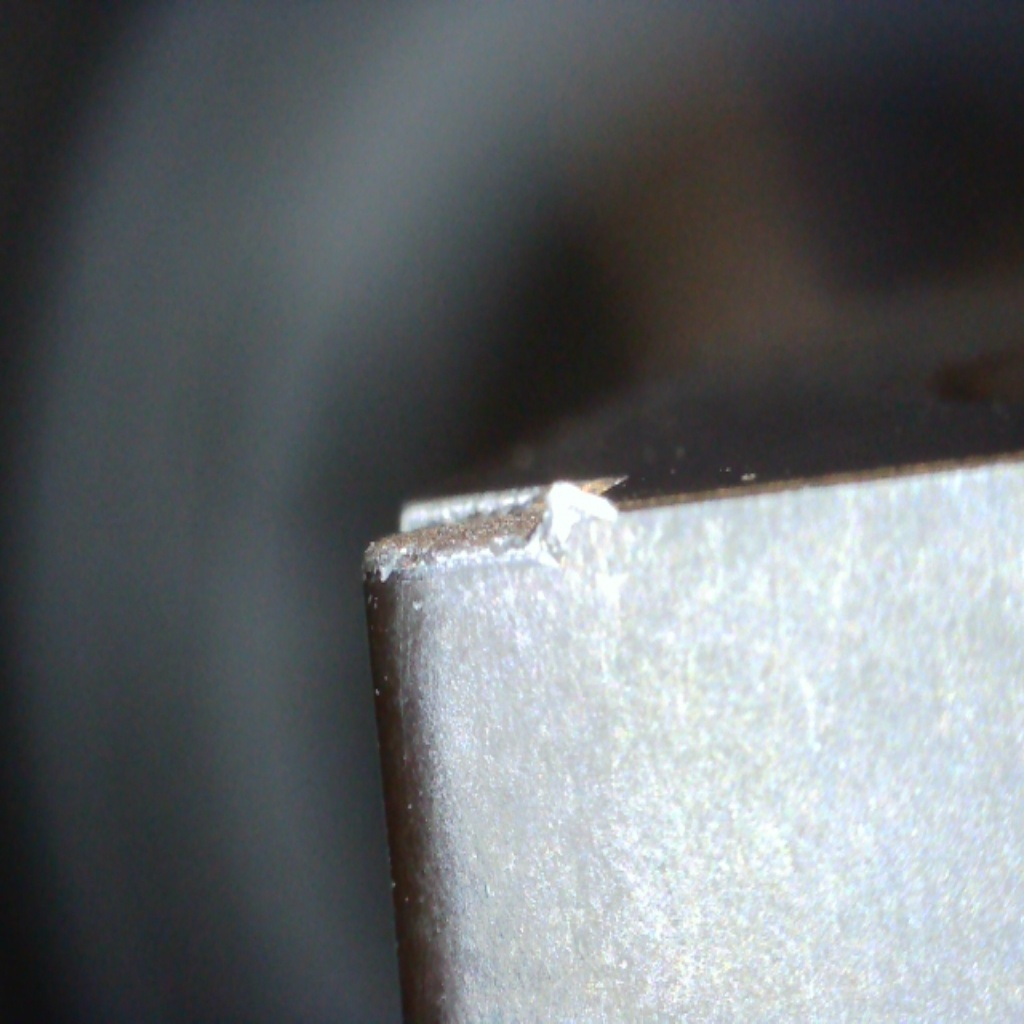flank_wear: (534, 479, 624, 572)
